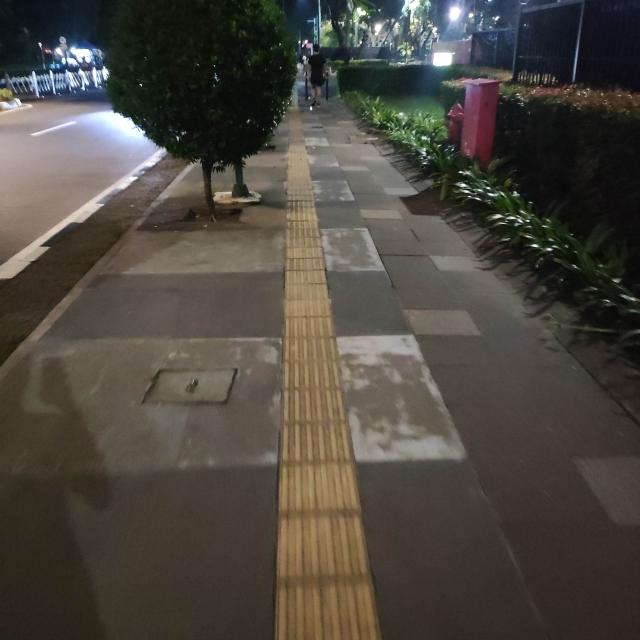lurus: (267, 160, 376, 640)
